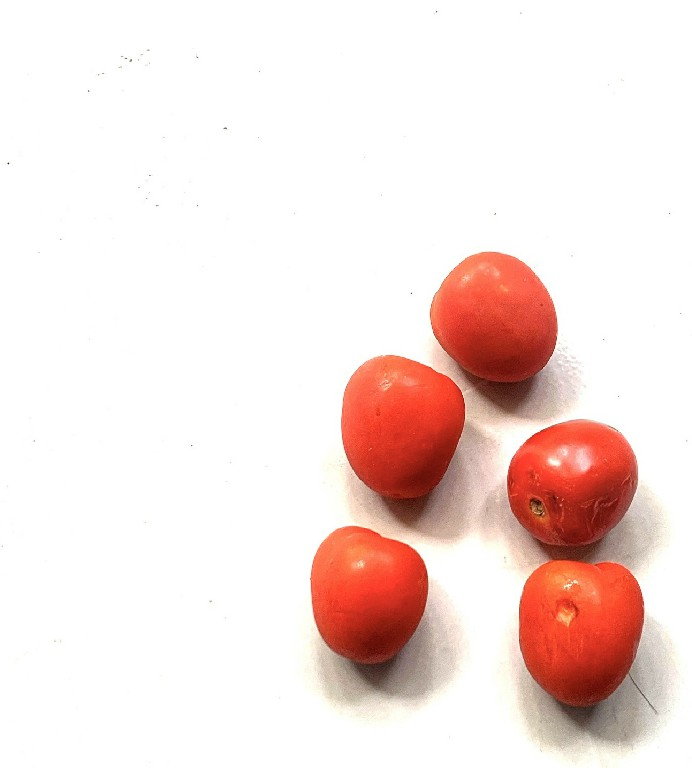NG: (516, 558, 647, 713), (505, 415, 636, 552)
OK: (328, 349, 465, 505), (429, 249, 558, 387), (311, 526, 433, 670)
